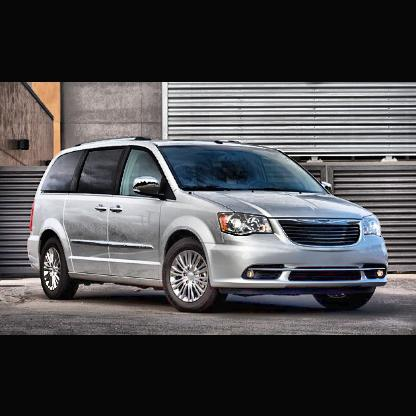Chrysler Town and Country Minivan 2012: (28, 134, 392, 316)
